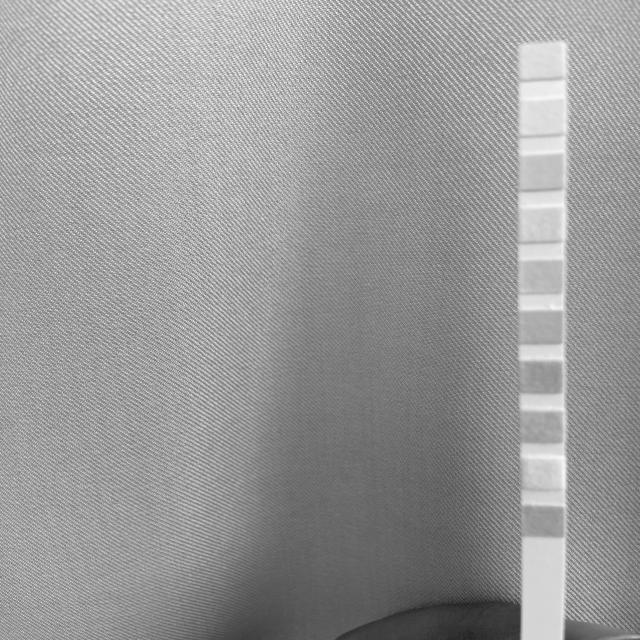Bilirubin: (524, 460, 563, 487)
Blood: (522, 312, 564, 342)
Glucose: (524, 508, 565, 536)
Ketone: (521, 411, 563, 442)
Leukocytes: (521, 46, 563, 76)
Nitrite: (521, 103, 564, 133)
Protein: (521, 210, 562, 241)
SpGravity: (522, 362, 564, 392)
Urobilinogen: (521, 158, 563, 187)
background: (0, 0, 640, 640)
pH: (520, 263, 562, 292)
strip: (518, 43, 566, 640)
